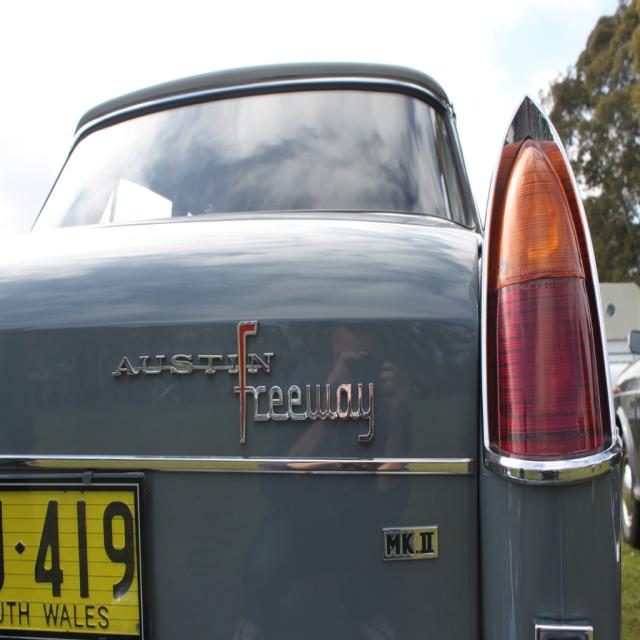car: (0, 50, 549, 638)
